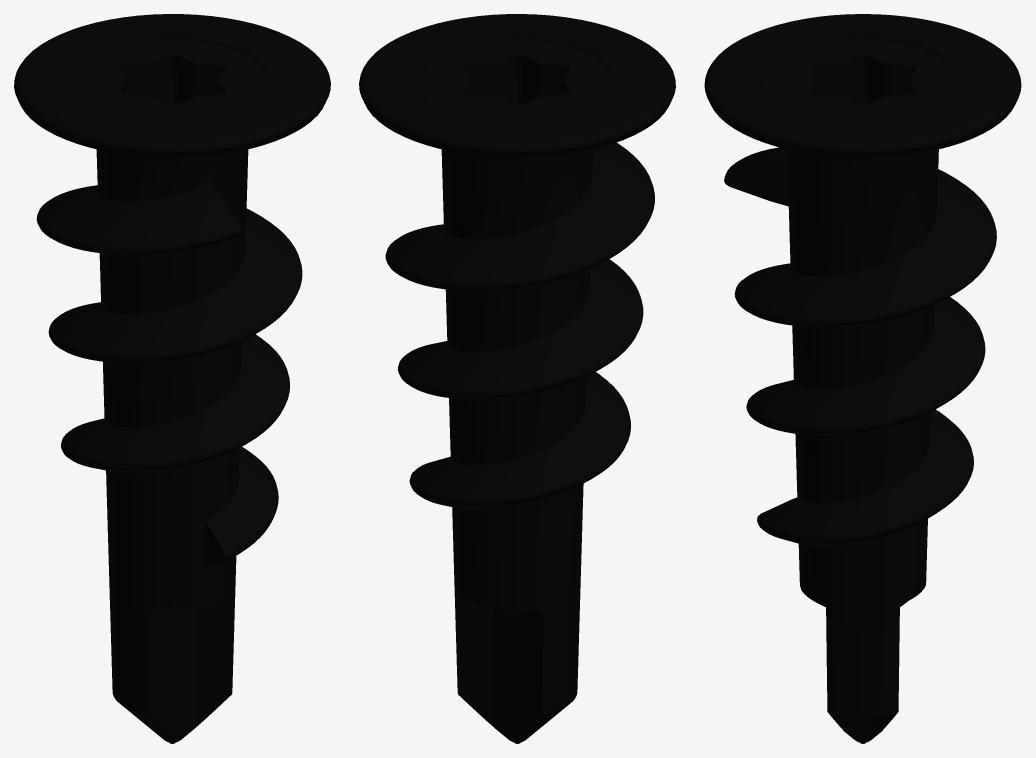
3 renders of one model, left to right at view 1: azimuth 30°, elevation 25°; view 2: azimuth 150°, elevation 25°; view 3: azimuth 270°, elevation 25°, orthographic.
Visible parts, largest first — view 1: Cylinder; view 2: Cylinder; view 3: Cylinder.
Boxes of the visible parts, x1,y1,x2,y2 form: Cylinder: [14, 14, 330, 743]; Cylinder: [359, 14, 675, 743]; Cylinder: [704, 14, 1021, 743].
Bounding box in the file's own units: 0.014 × 0.0324 × 0.014.
1 material, 1 textured.
